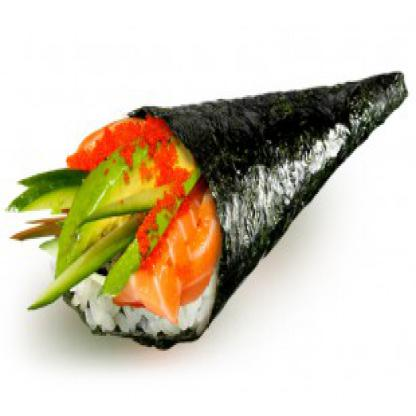sake_hand_roll: (2, 68, 410, 360)
